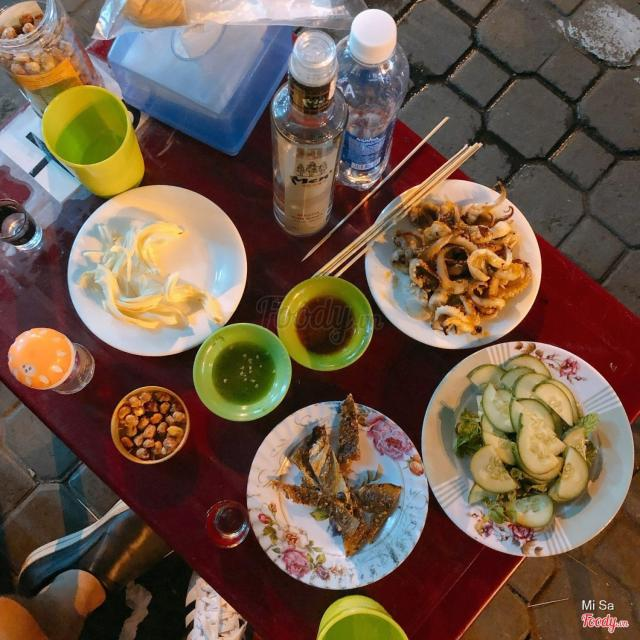bach tuoc nuong: (368, 184, 550, 339)
ca kho nuong: (255, 394, 423, 559)
dau phong rang: (106, 384, 190, 460)
dua leo: (441, 343, 631, 551)
